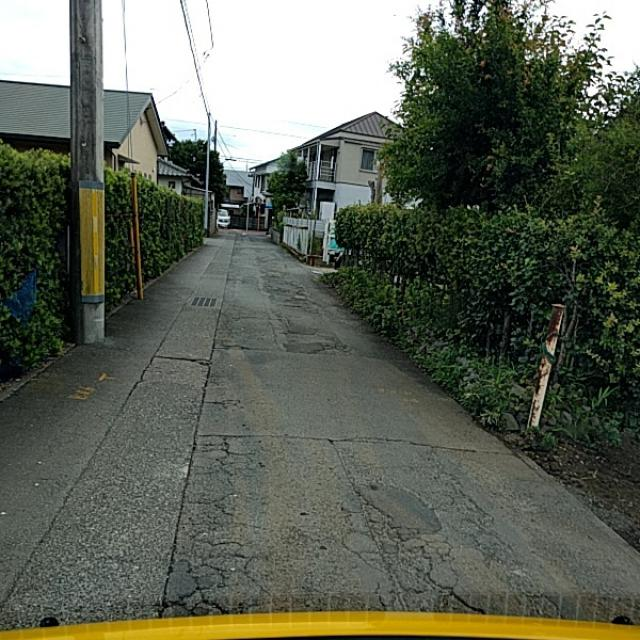pothole: (188, 349, 279, 624), (364, 448, 493, 612)
